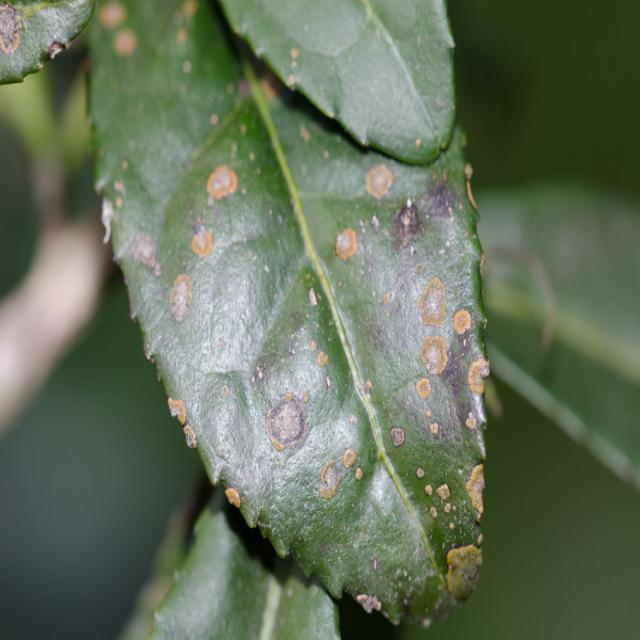Tea algae leaf spot: (107, 127, 488, 597)
